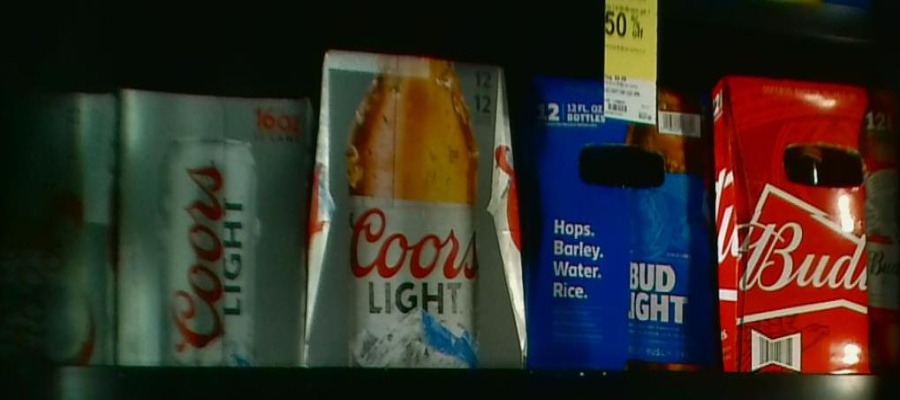bottle: (314, 45, 526, 371), (120, 83, 312, 371), (715, 78, 900, 373), (529, 82, 714, 373), (1, 90, 115, 363)
